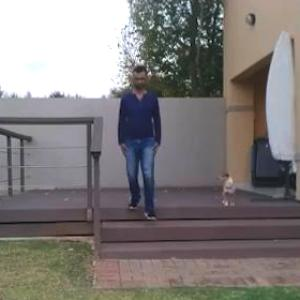follow: (117, 65, 156, 222)
